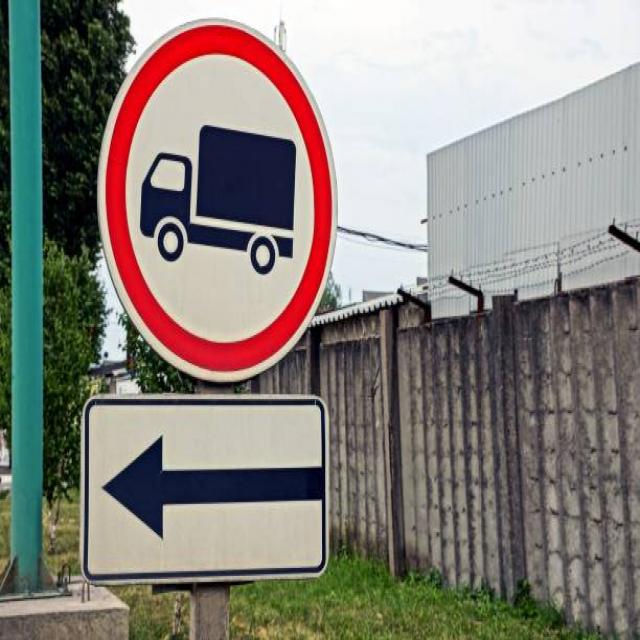do_not_enter: (90, 18, 344, 392)
